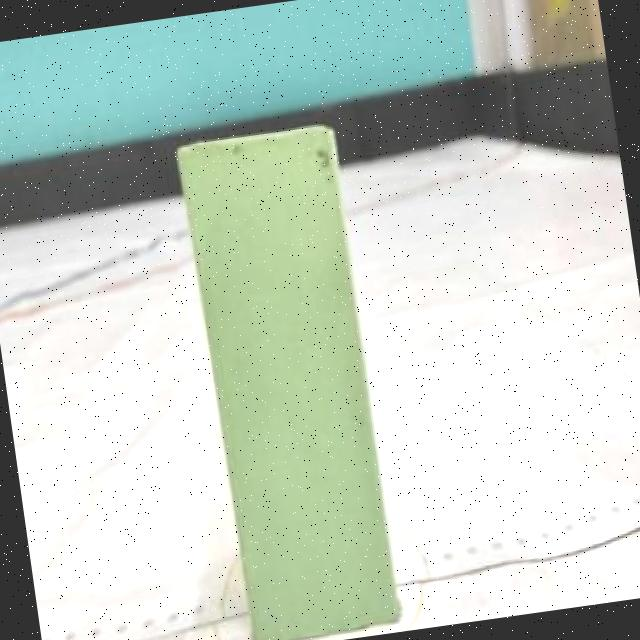greenbox: (179, 123, 404, 640)
